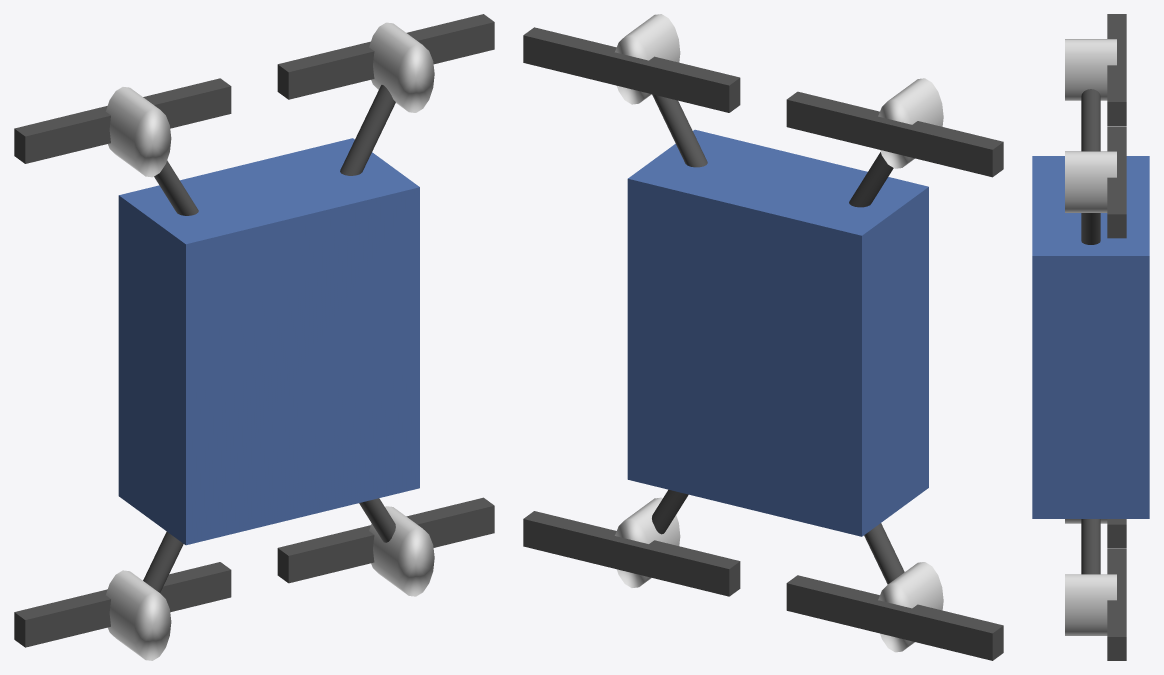
File: C1_UAS_0002.glb
3 views of the same model, side by side, from view 1: azimuth 30°, elevation 25°; view 2: azimuth 150°, elevation 25°; view 3: azimuth 270°, elevation 25° (orthographic). The views are drawn at different scales.
Bounding box in the file's own units: 0.5089 × 0.5724 × 0.1259.
